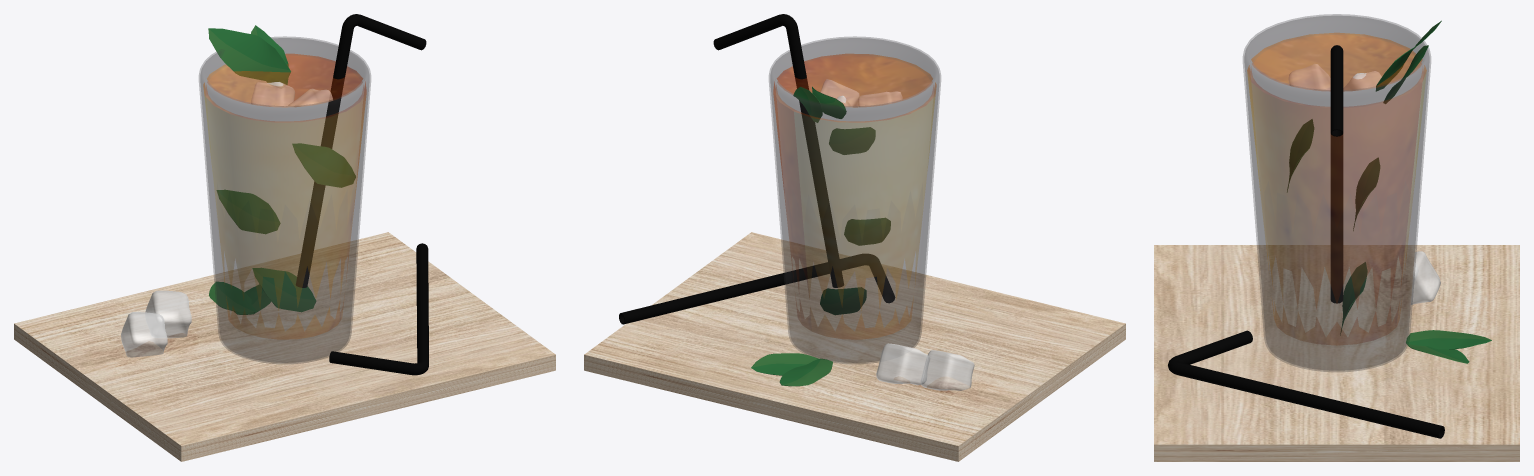
Rendered from tea.glb.
3 renders of one model, left to right at view 1: azimuth 30°, elevation 25°; view 2: azimuth 150°, elevation 25°; view 3: azimuth 270°, elevation 25°, orthographic. The views are drawn at different scales.
Parts seen in each view (by area): view 1: cutting board, glass, juice, straw, straw001, ice_cube034, ice_cube035, mint002_minze_0, mint002_08 - Default_0, ice_cube032, mint005_08 - Default_0, mint004_08 - Default_0 (+4 smaller); view 2: cutting board, glass, juice, straw, straw001, ice_cube035, ice_cube034, mint006_minze_0, mint005_minze_0, mint004_minze_0, mint003_minze_0, ice_cube030 (+1 smaller); view 3: cutting board, glass, juice, straw001, straw, ice_cube035, ice_cube029, mint_08 - Default_0, mint_minze_0, ice_cube032, mint006_08 - Default_0, mint004_08 - Default_0 (+1 smaller).
Boxes of the visible parts, x1=… form: cutting board: x1=14, y1=232, x2=555, y2=461; glass: x1=199, y1=36, x2=370, y2=363; juice: x1=203, y1=54, x2=366, y2=339; straw: x1=296, y1=14, x2=426, y2=287; straw001: x1=329, y1=243, x2=428, y2=375; ice_cube034: x1=121, y1=312, x2=167, y2=357; ice_cube035: x1=145, y1=290, x2=191, y2=338; mint002_minze_0: x1=208, y1=28, x2=290, y2=82; mint002_08 - Default_0: x1=209, y1=28, x2=290, y2=70; ice_cube032: x1=251, y1=82, x2=295, y2=106; mint005_08 - Default_0: x1=293, y1=143, x2=355, y2=175; mint004_08 - Default_0: x1=217, y1=190, x2=279, y2=221; cutting board: x1=584, y1=232, x2=1125, y2=461; glass: x1=769, y1=36, x2=940, y2=363; juice: x1=773, y1=54, x2=936, y2=339; straw: x1=713, y1=14, x2=843, y2=287; straw001: x1=619, y1=254, x2=895, y2=324; ice_cube035: x1=876, y1=343, x2=929, y2=385; ice_cube034: x1=921, y1=350, x2=974, y2=390; mint006_minze_0: x1=820, y1=287, x2=866, y2=315; mint005_minze_0: x1=829, y1=127, x2=875, y2=154; mint004_minze_0: x1=844, y1=218, x2=890, y2=245; mint003_minze_0: x1=751, y1=353, x2=819, y2=367; ice_cube030: x1=820, y1=79, x2=859, y2=107; cutting board: x1=1154, y1=245, x2=1519, y2=461; glass: x1=1243, y1=14, x2=1430, y2=371; juice: x1=1247, y1=33, x2=1426, y2=345; straw001: x1=1168, y1=330, x2=1444, y2=438; straw: x1=1330, y1=45, x2=1343, y2=303; ice_cube035: x1=1411, y1=251, x2=1440, y2=304; ice_cube029: x1=1288, y1=64, x2=1330, y2=90; mint_08 - Default_0: x1=1406, y1=338, x2=1491, y2=349; mint_minze_0: x1=1406, y1=330, x2=1490, y2=342; ice_cube032: x1=1343, y1=71, x2=1381, y2=90; mint006_08 - Default_0: x1=1341, y1=262, x2=1367, y2=329; mint004_08 - Default_0: x1=1354, y1=158, x2=1379, y2=224.
Bounding box in the file's own units: 3.35 × 2.74 × 2.58.
7 materials, 2 textured.
